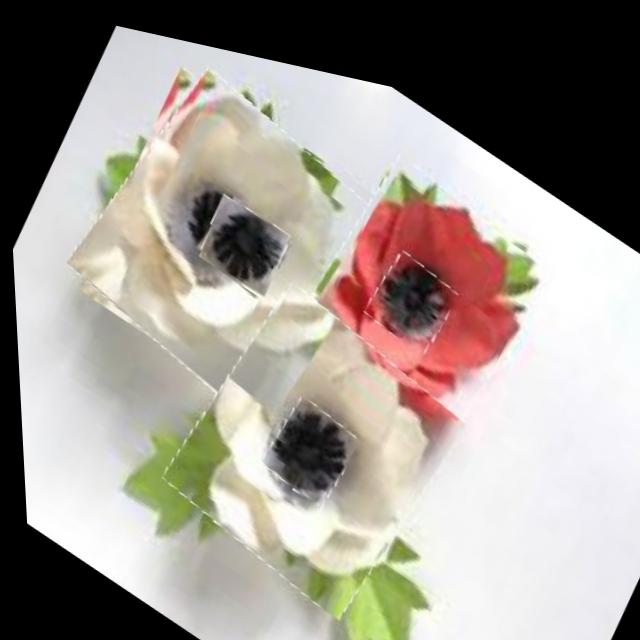Flower: (52, 24, 398, 444), (146, 239, 473, 637), (285, 114, 559, 447), (253, 373, 361, 505), (359, 224, 460, 346), (191, 177, 293, 294)
